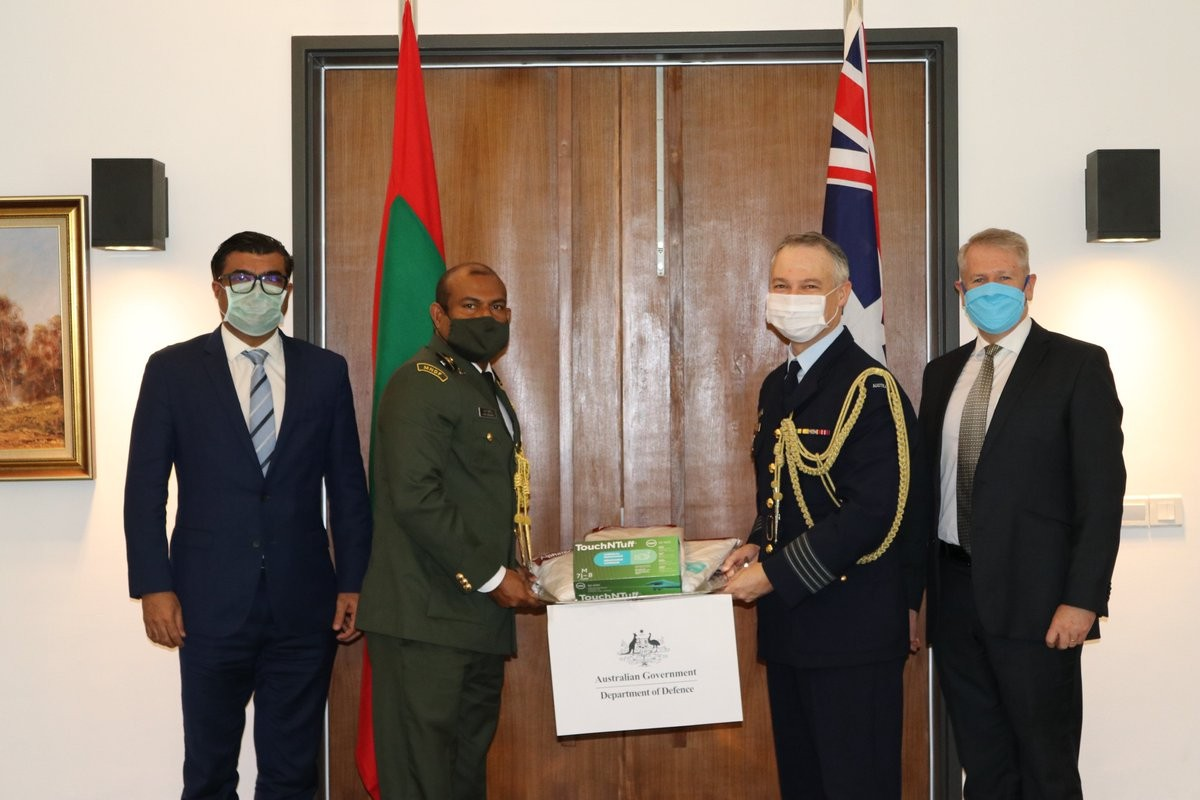with_mask: (213, 257, 290, 337), (762, 266, 834, 346), (443, 296, 512, 366), (962, 263, 1028, 334)
